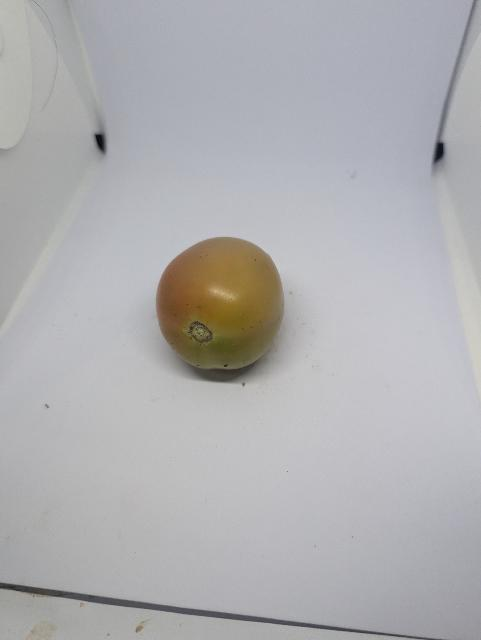breaker: (152, 226, 295, 386)
